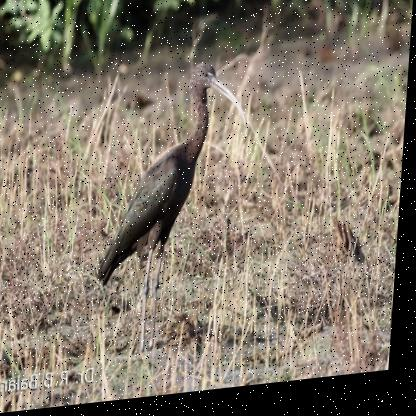Burung: (97, 63, 254, 361)
